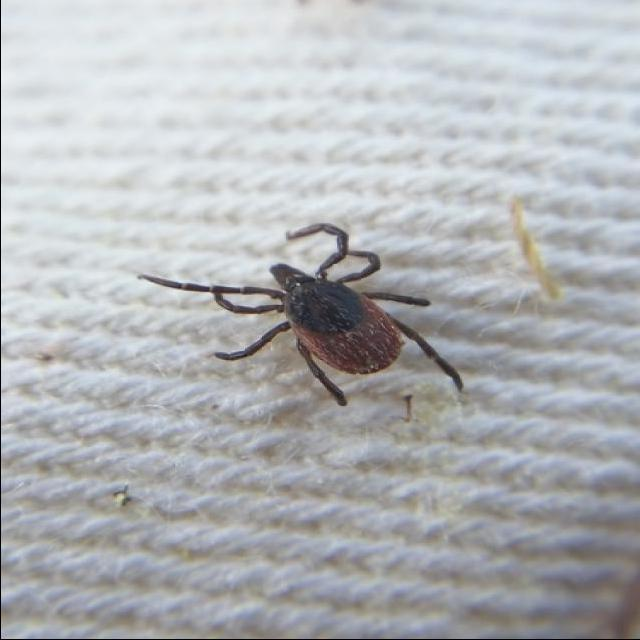Ixodes Ricinus-F: (142, 227, 464, 410)
